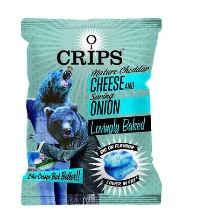snack: (13, 10, 169, 211)
